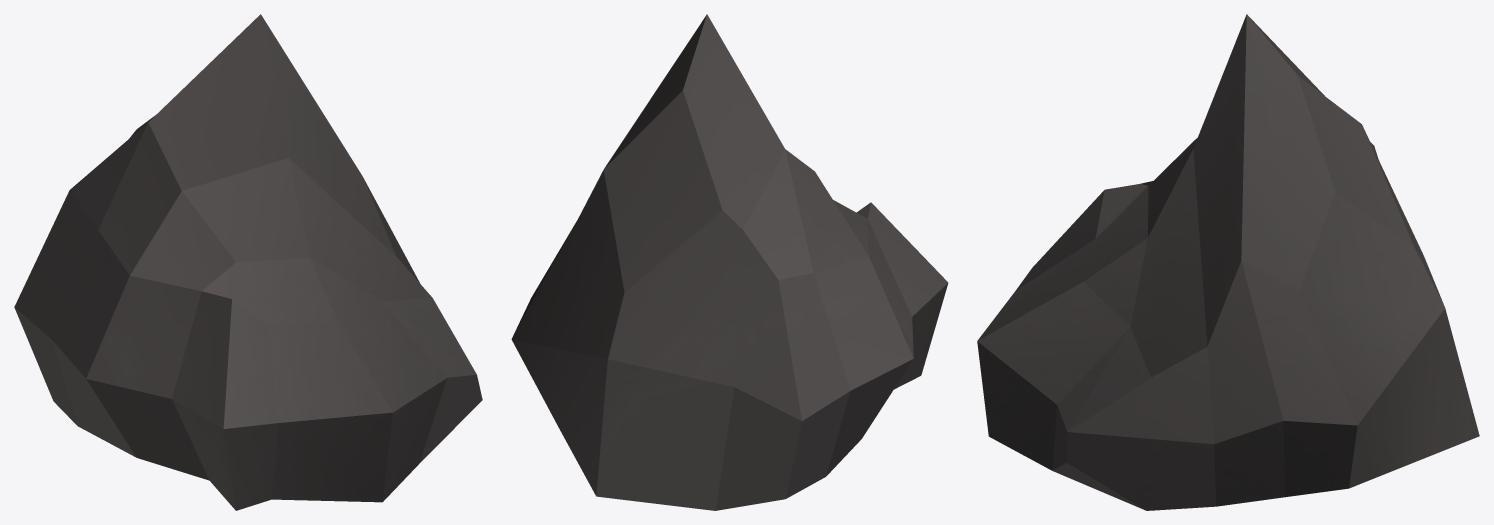
The model's file is F_Stone_Harm_1.fbx.
The picture shows the model from 3 angles, left to right: view 1: azimuth 30°, elevation 25°; view 2: azimuth 150°, elevation 25°; view 3: azimuth 270°, elevation 25°; orthographic projection. The views are drawn at different scales.
Visible parts, largest first — view 1: F_Stone_Harm_1; view 2: F_Stone_Harm_1; view 3: F_Stone_Harm_1.
Boxes of the visible parts, box(x1,y1,x2,y2) form: F_Stone_Harm_1: box(14, 14, 482, 510); F_Stone_Harm_1: box(511, 14, 948, 510); F_Stone_Harm_1: box(977, 14, 1479, 510).
Bounding box in the file's own units: 1.31 × 1.22 × 1.11.
Materials: 1 (1 with a texture image).
